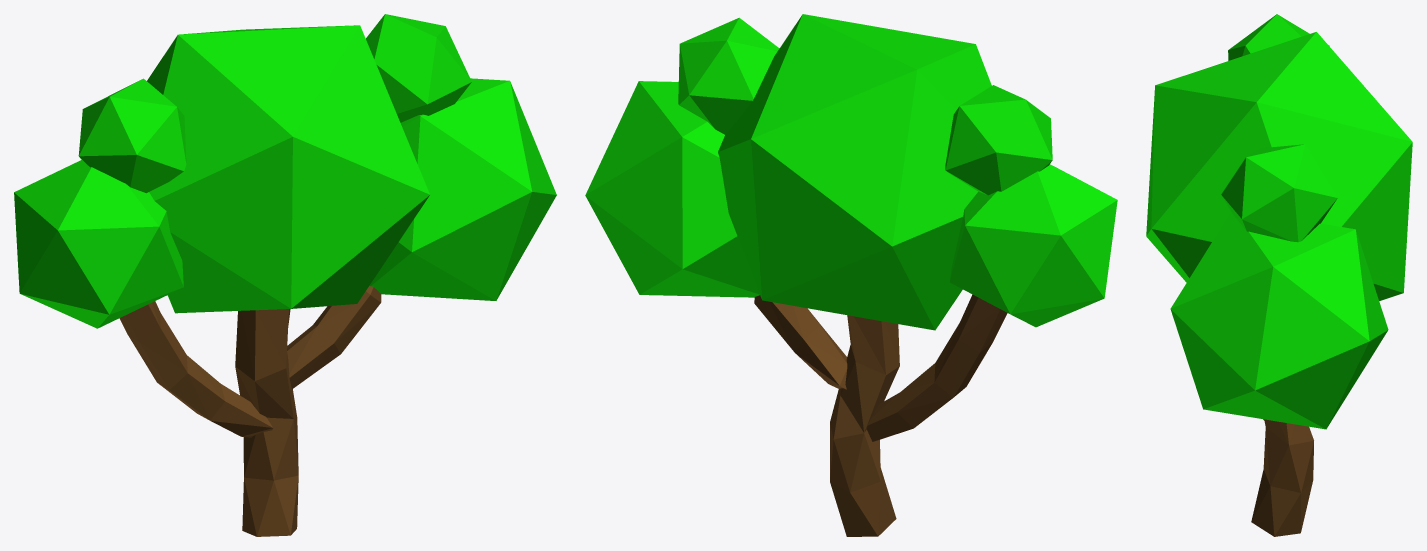
File: Baum1(LOW).fbx
3 views of the same model, side by side, from view 1: azimuth 30°, elevation 25°; view 2: azimuth 150°, elevation 25°; view 3: azimuth 270°, elevation 25° (orthographic). The views are drawn at different scales.
Parts seen in each view (by area): view 1: Baum1; view 2: Baum1; view 3: Baum1.
Boxes of the visible parts, box(x1,y1,x2,y2) form: Baum1: box(14, 14, 556, 536); Baum1: box(585, 14, 1117, 536); Baum1: box(1146, 14, 1412, 536).
Bounding box in the file's own units: 926 × 858 × 445.
